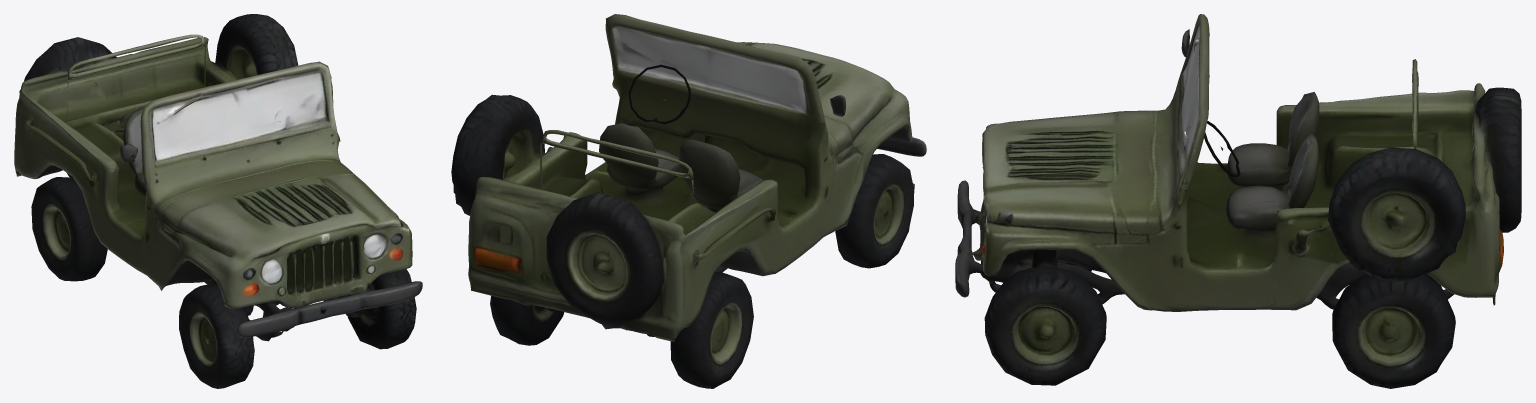
File: v_jeep.glb
3 renders of one model, left to right at view 1: azimuth 30°, elevation 25°; view 2: azimuth 150°, elevation 25°; view 3: azimuth 270°, elevation 25°, orthographic. The views are drawn at different scales.
Visible parts, largest first — view 1: model; view 2: model; view 3: model.
Boxes of the visible parts, bbox=[...] form: model: bbox=[14, 14, 422, 388]; model: bbox=[451, 14, 926, 388]; model: bbox=[955, 14, 1521, 388].
Bounding box in the file's own units: 1.12 × 1.03 × 1.89.
1 material, 1 textured.
